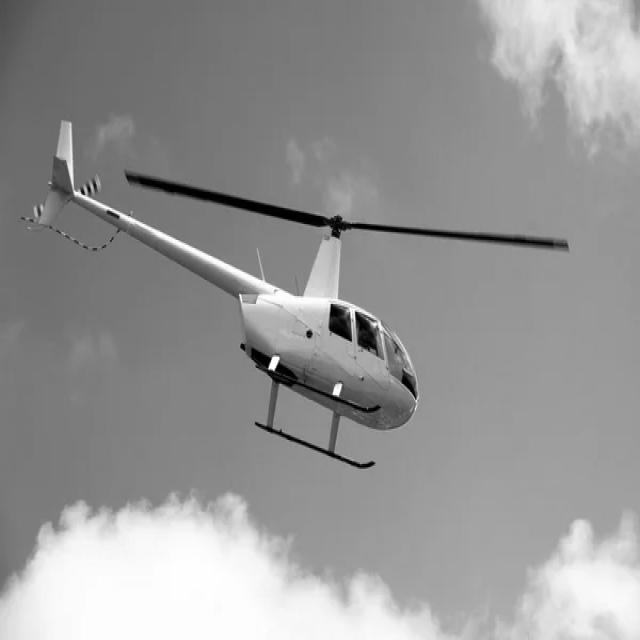Helicopter: (33, 122, 570, 470)
